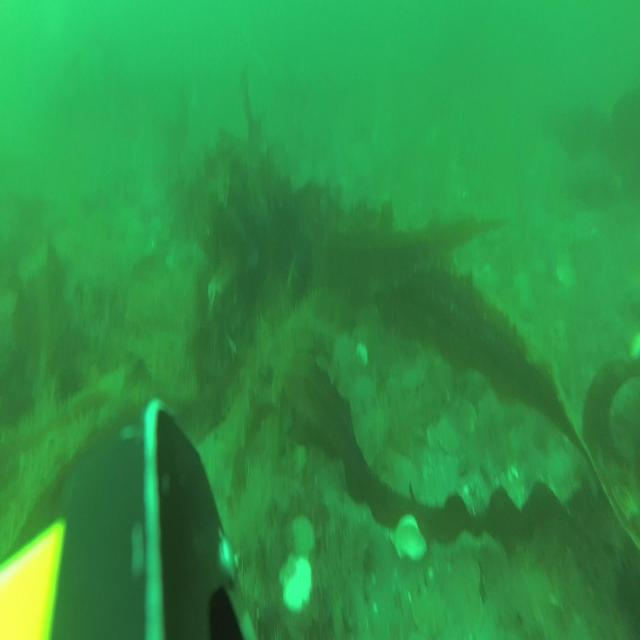scallop: (386, 504, 429, 564), (277, 548, 316, 613), (411, 587, 447, 635), (453, 586, 485, 638), (288, 512, 318, 566), (438, 410, 464, 456), (458, 554, 483, 598), (555, 258, 578, 292), (459, 397, 478, 436), (400, 367, 428, 393), (424, 416, 442, 454)
